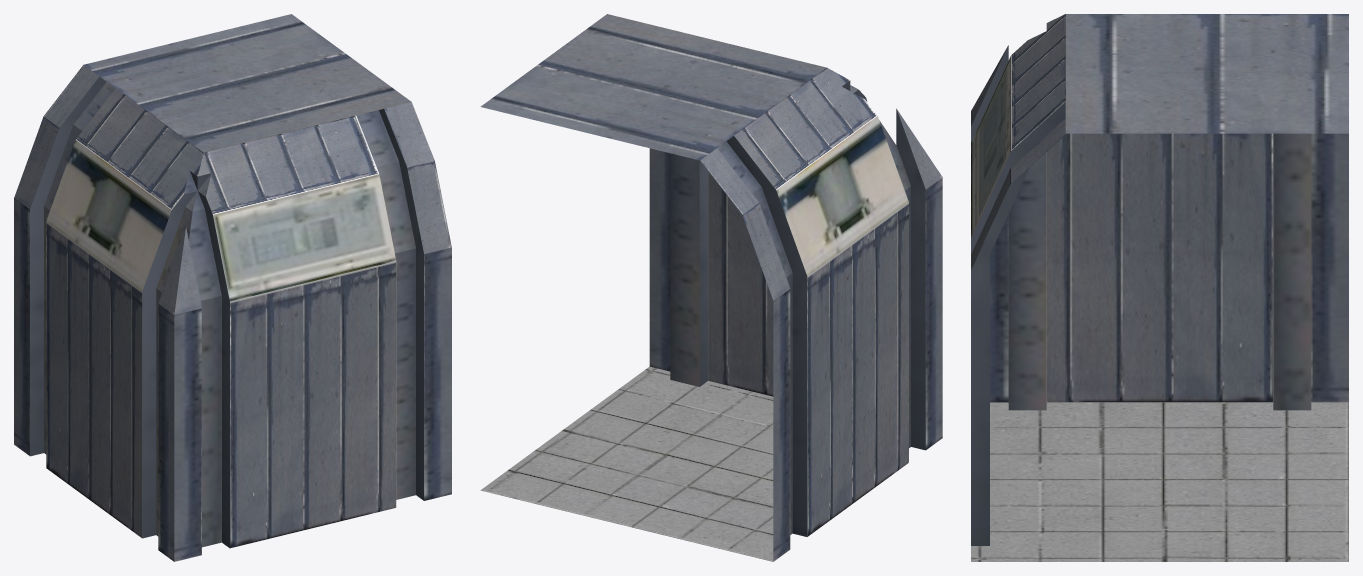
Rendered from room_wall_corner.fbx.
3 renders of one model, left to right at view 1: azimuth 30°, elevation 25°; view 2: azimuth 150°, elevation 25°; view 3: azimuth 270°, elevation 25°, orthographic. The views are drawn at different scales.
Visible parts, largest first — view 1: Plane; view 2: Plane; view 3: Plane.
Boxes of the visible parts, box(x1,y1,x2,y2) form: Plane: box(14, 14, 451, 561); Plane: box(480, 14, 942, 561); Plane: box(971, 14, 1348, 561).
Size of the model in its own units: 200 by 250 by 200.
